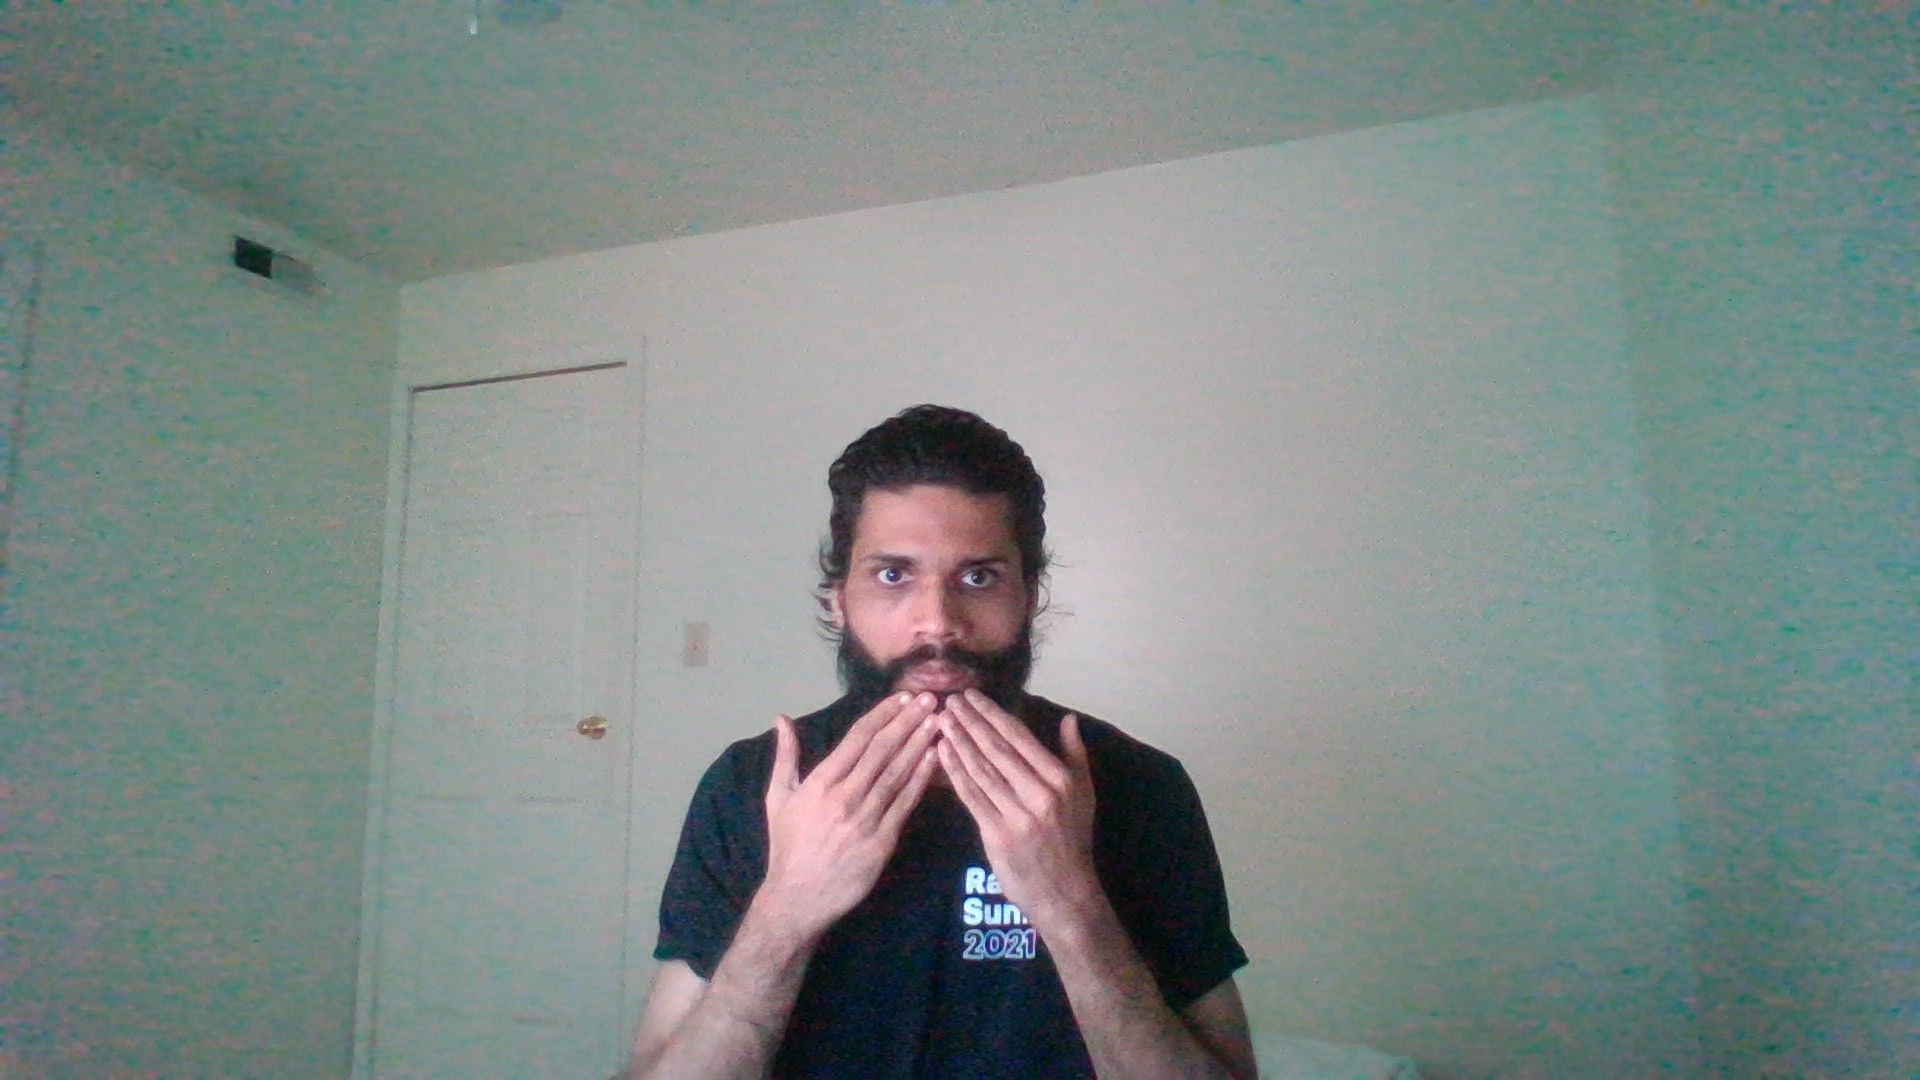Thank You: (735, 642, 1134, 934)
